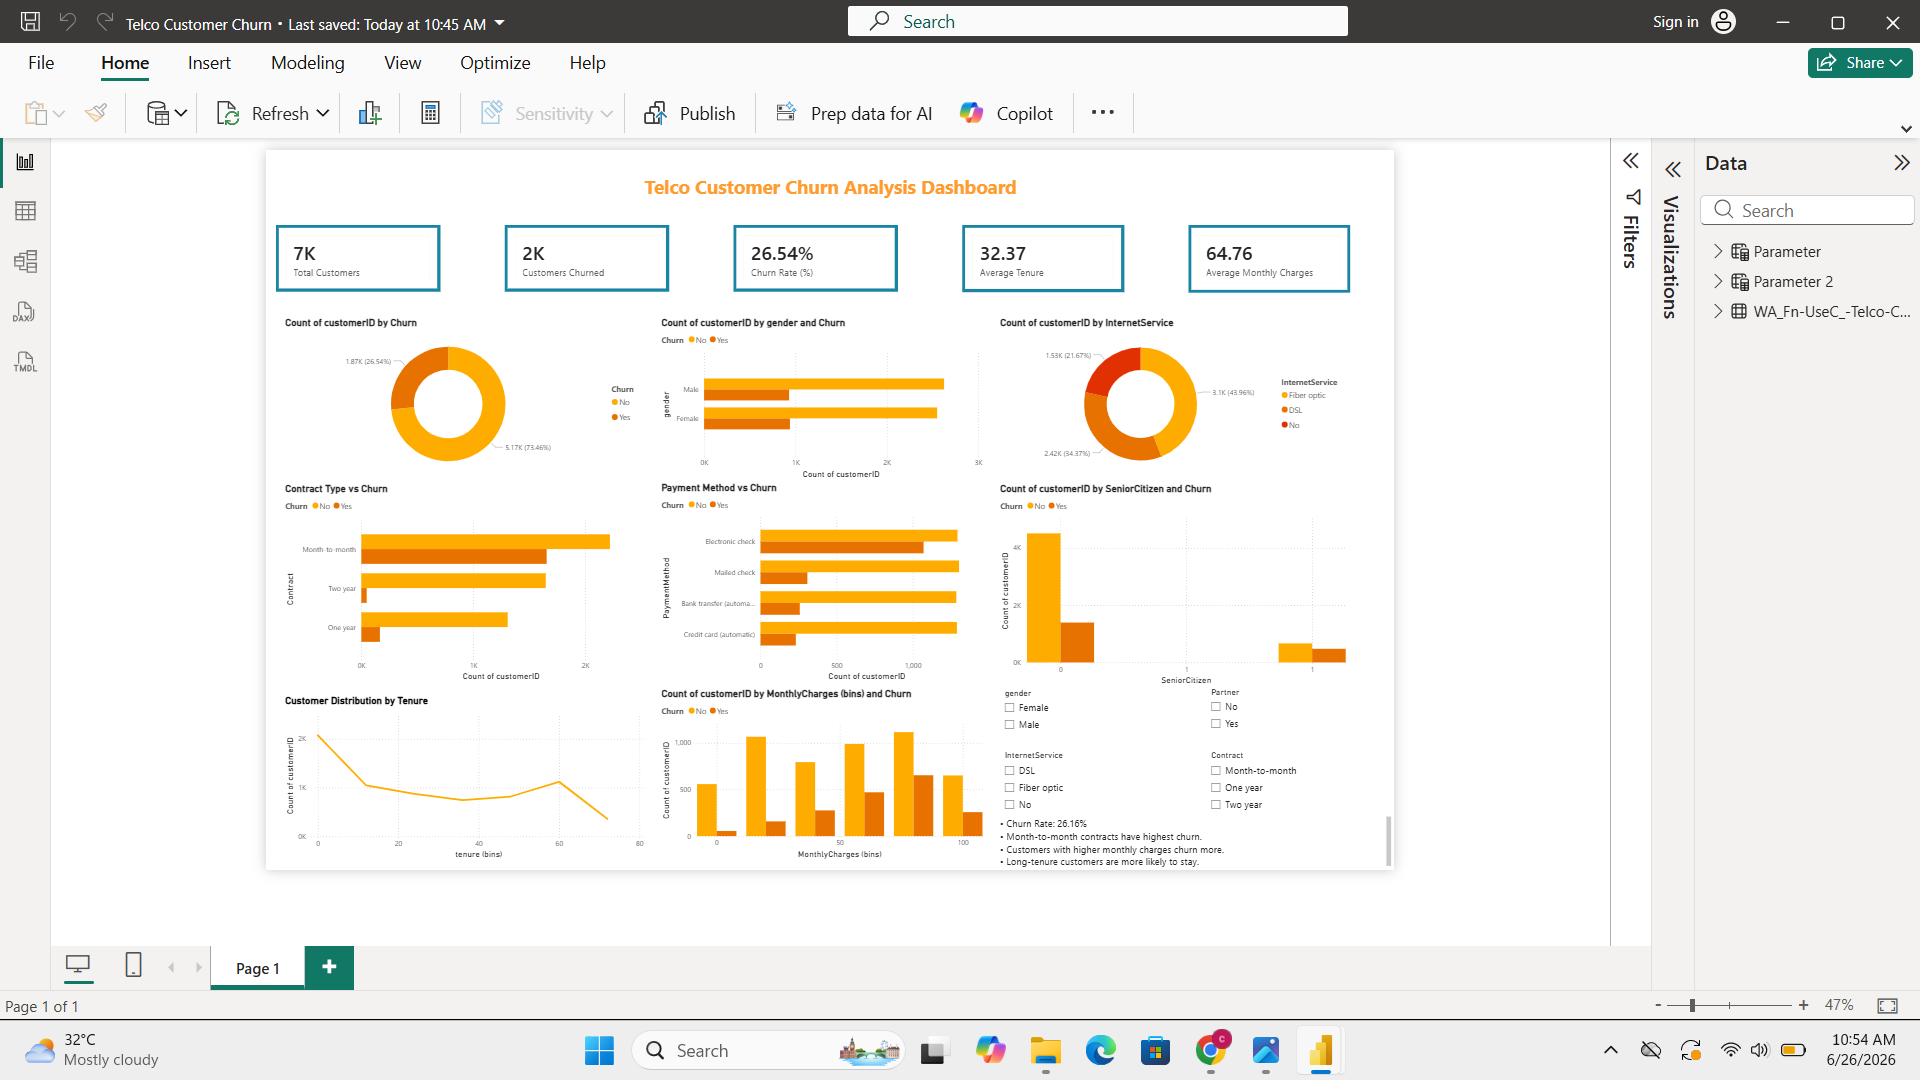

The page's visual inventory and layout, read from the dashboard file:
{"tool":"powerbi","page":{"name":"Page 1","canvas":[1920,1225],"ordinal":0},"visuals":[{"type":"cardVisual","fields":{"Data":["WA_Fn-UseC_-Telco-Customer-Churn.Total Customers"]},"box":[16.9,127.5,279.9,113.9],"z":0},{"type":"cardVisual","fields":{"Data":["WA_Fn-UseC_-Telco-Customer-Churn.Churn Customers"]},"box":[406,127.5,279.9,113.9],"z":1000},{"type":"cardVisual","fields":{"Data":["WA_Fn-UseC_-Telco-Customer-Churn.Churn Rate"]},"box":[795.2,127.5,279.9,113.9],"z":2000},{"type":"donutChart","fields":{"Category":["WA_Fn-UseC_-Telco-Customer-Churn.Churn"],"Y":["CountNonNull(WA_Fn-UseC_-Telco-Customer-Churn.customerID)"]},"box":[28.3,283.3,623.3,280],"z":3000},{"type":"clusteredBarChart","fields":{"Series":["WA_Fn-UseC_-Telco-Customer-Churn.Churn"],"Category":["WA_Fn-UseC_-Telco-Customer-Churn.gender"],"Y":["CountNonNull(WA_Fn-UseC_-Telco-Customer-Churn.customerID)"]},"box":[668.3,283.3,556.7,281.7],"z":4000},{"type":"lineChart","title":"Customer Distribution by Tenure","fields":{"Category":["WA_Fn-UseC_-Telco-Customer-Churn.tenure (bins)"],"Y":["CountNonNull(WA_Fn-UseC_-Telco-Customer-Churn.customerID)"]},"box":[28.4,926.7,623.3,285],"z":5000},{"type":"clusteredColumnChart","fields":{"Series":["WA_Fn-UseC_-Telco-Customer-Churn.Churn"],"Y":["CountNonNull(WA_Fn-UseC_-Telco-Customer-Churn.customerID)"],"Category":["WA_Fn-UseC_-Telco-Customer-Churn.MonthlyCharges (bins)"]},"box":[668.3,915,556.7,296.7],"z":6000},{"type":"slicer","fields":{"Values":["WA_Fn-UseC_-Telco-Customer-Churn.gender"]},"box":[1245,911.7,341.7,103.3],"z":7000},{"type":"slicer","fields":{"Values":["WA_Fn-UseC_-Telco-Customer-Churn.Contract"]},"box":[1595,1016.7,248.3,125],"z":8000},{"type":"cardVisual","fields":{"Data":["WA_Fn-UseC_-Telco-Customer-Churn.Avg Tenure"]},"box":[1184.3,127.5,275.7,114.3],"z":9000},{"type":"clusteredBarChart","title":"Contract Type vs Churn","fields":{"Series":["WA_Fn-UseC_-Telco-Customer-Churn.Churn"],"Category":["WA_Fn-UseC_-Telco-Customer-Churn.Contract"],"Y":["CountNonNull(WA_Fn-UseC_-Telco-Customer-Churn.customerID)"]},"box":[28.3,565,623.3,343.3],"z":10000},{"type":"cardVisual","fields":{"Data":["WA_Fn-UseC_-Telco-Customer-Churn.Avg Monthly Charges"]},"box":[1569.3,126.7,275,115],"z":11000},{"type":"clusteredBarChart","title":"Payment Method vs Churn","fields":{"Category":["WA_Fn-UseC_-Telco-Customer-Churn.PaymentMethod"],"Y":["CountNonNull(WA_Fn-UseC_-Telco-Customer-Churn.customerID)"],"Series":["WA_Fn-UseC_-Telco-Customer-Churn.Churn"]},"box":[668.3,563.3,556.7,345],"z":12000},{"type":"donutChart","fields":{"Y":["CountNonNull(WA_Fn-UseC_-Telco-Customer-Churn.customerID)"],"Category":["WA_Fn-UseC_-Telco-Customer-Churn.InternetService"]},"box":[1245,283.3,598.3,280],"z":13000},{"type":"clusteredColumnChart","fields":{"Category":["WA_Fn-UseC_-Telco-Customer-Churn.SeniorCitizen"],"Y":["CountNonNull(WA_Fn-UseC_-Telco-Customer-Churn.customerID)"],"Series":["WA_Fn-UseC_-Telco-Customer-Churn.Churn"]},"box":[1245,565,598.3,350],"z":14000},{"type":"slicer","fields":{"Values":["WA_Fn-UseC_-Telco-Customer-Churn.InternetService"]},"box":[1245,1016.7,350,125],"z":15000},{"type":"slicer","fields":{"Values":["WA_Fn-UseC_-Telco-Customer-Churn.Partner"]},"box":[1595,908.3,248.3,108.3],"z":16000},{"type":"textbox","box":[2,0,1918,92],"z":17000},{"type":"textbox","box":[1245,1130,675,95],"z":18000}]}

Visuals, with their boxes on the page's 1920x1225 design canvas (x1, y1, x2, y2). These are canvas units, not pixel positions in the 1920x1080 screenshot, which may show the page scaled, cropped or inside an application window:
cardVisual - WA_Fn-UseC_-Telco-Customer-Churn.Total Customers: (17, 128, 297, 241)
cardVisual - WA_Fn-UseC_-Telco-Customer-Churn.Churn Customers: (406, 128, 686, 241)
cardVisual - WA_Fn-UseC_-Telco-Customer-Churn.Churn Rate: (795, 128, 1075, 241)
donutChart - WA_Fn-UseC_-Telco-Customer-Churn.Churn x CountNonNull(WA_Fn-UseC_-Telco-Customer-Churn.customerID): (28, 283, 652, 563)
clusteredBarChart - WA_Fn-UseC_-Telco-Customer-Churn.Churn x WA_Fn-UseC_-Telco-Customer-Churn.gender: (668, 283, 1225, 565)
"Customer Distribution by Tenure" lineChart: (28, 927, 652, 1212)
clusteredColumnChart - WA_Fn-UseC_-Telco-Customer-Churn.Churn x CountNonNull(WA_Fn-UseC_-Telco-Customer-Churn.customerID): (668, 915, 1225, 1212)
slicer - WA_Fn-UseC_-Telco-Customer-Churn.gender: (1245, 912, 1587, 1015)
slicer - WA_Fn-UseC_-Telco-Customer-Churn.Contract: (1595, 1017, 1843, 1142)
cardVisual - WA_Fn-UseC_-Telco-Customer-Churn.Avg Tenure: (1184, 128, 1460, 242)
"Contract Type vs Churn" clusteredBarChart: (28, 565, 652, 908)
cardVisual - WA_Fn-UseC_-Telco-Customer-Churn.Avg Monthly Charges: (1569, 127, 1844, 242)
"Payment Method vs Churn" clusteredBarChart: (668, 563, 1225, 908)
donutChart - CountNonNull(WA_Fn-UseC_-Telco-Customer-Churn.customerID) x WA_Fn-UseC_-Telco-Customer-Churn.InternetService: (1245, 283, 1843, 563)
clusteredColumnChart - WA_Fn-UseC_-Telco-Customer-Churn.SeniorCitizen x CountNonNull(WA_Fn-UseC_-Telco-Customer-Churn.customerID): (1245, 565, 1843, 915)
slicer - WA_Fn-UseC_-Telco-Customer-Churn.InternetService: (1245, 1017, 1595, 1142)
slicer - WA_Fn-UseC_-Telco-Customer-Churn.Partner: (1595, 908, 1843, 1017)
textbox: (2, 0, 1920, 92)
textbox: (1245, 1130, 1920, 1225)
